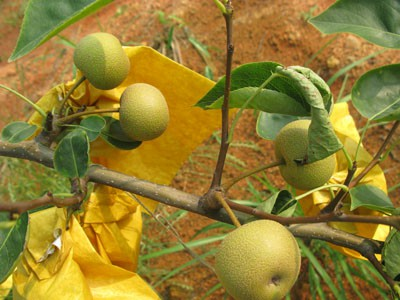pear: (214, 219, 302, 300), (275, 119, 337, 190), (71, 32, 132, 90), (119, 83, 170, 139)
